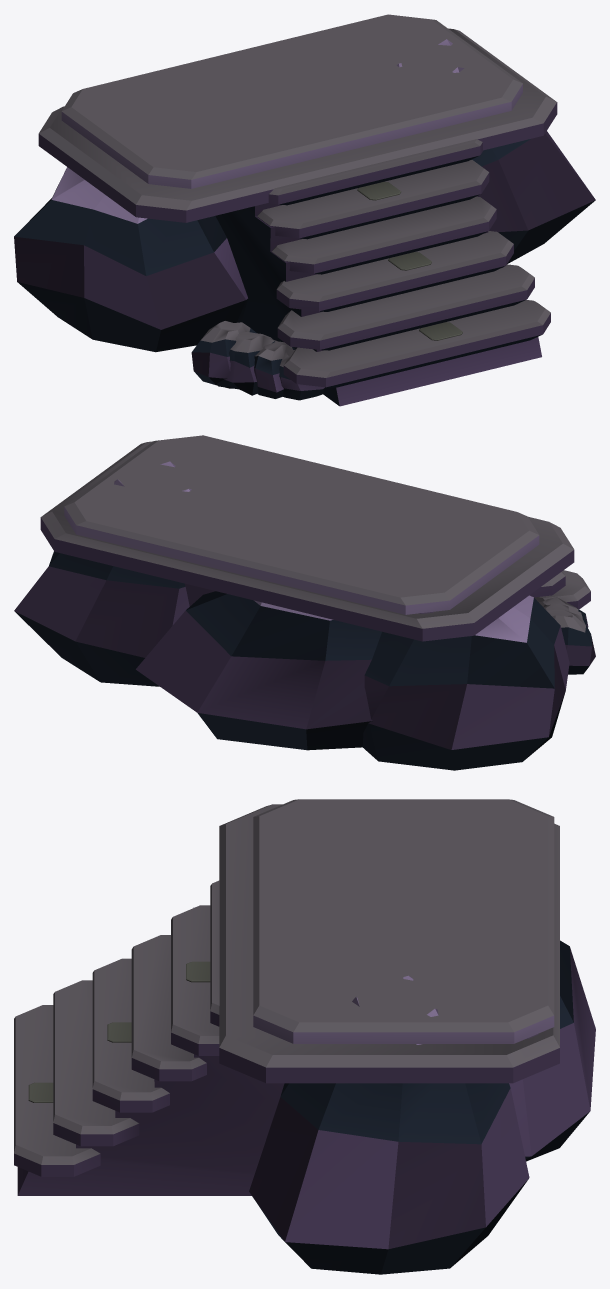
File: sanctuary-terrace.glb
The picture shows the model from 3 angles, top to bottom: view 1: azimuth 30°, elevation 25°; view 2: azimuth 150°, elevation 25°; view 3: azimuth 270°, elevation 25°; orthographic projection. The views are drawn at different scales.
Parts seen in each view (by area): view 1: sanctuary-terrace; view 2: sanctuary-terrace; view 3: sanctuary-terrace.
Boxes of the visible parts, x1,y1,x2,y2 form: sanctuary-terrace: (14, 14, 595, 406); sanctuary-terrace: (14, 435, 595, 770); sanctuary-terrace: (14, 799, 595, 1274).
Size of the model in its own units: 10.28 by 3.43 by 7.85.
